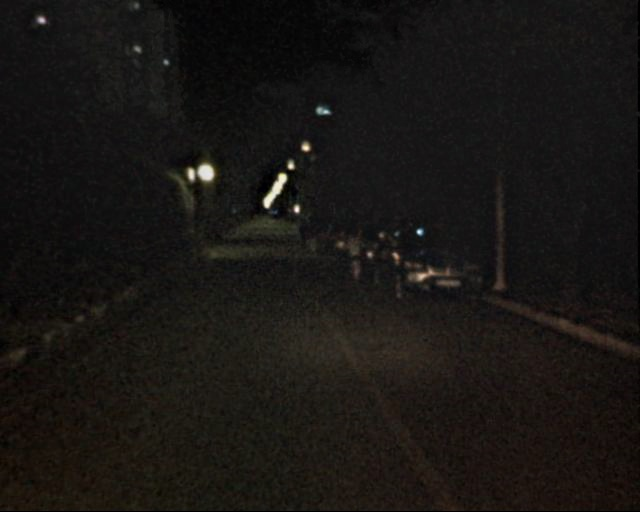person: (338, 224, 363, 284), (302, 216, 317, 253), (294, 221, 305, 247)
